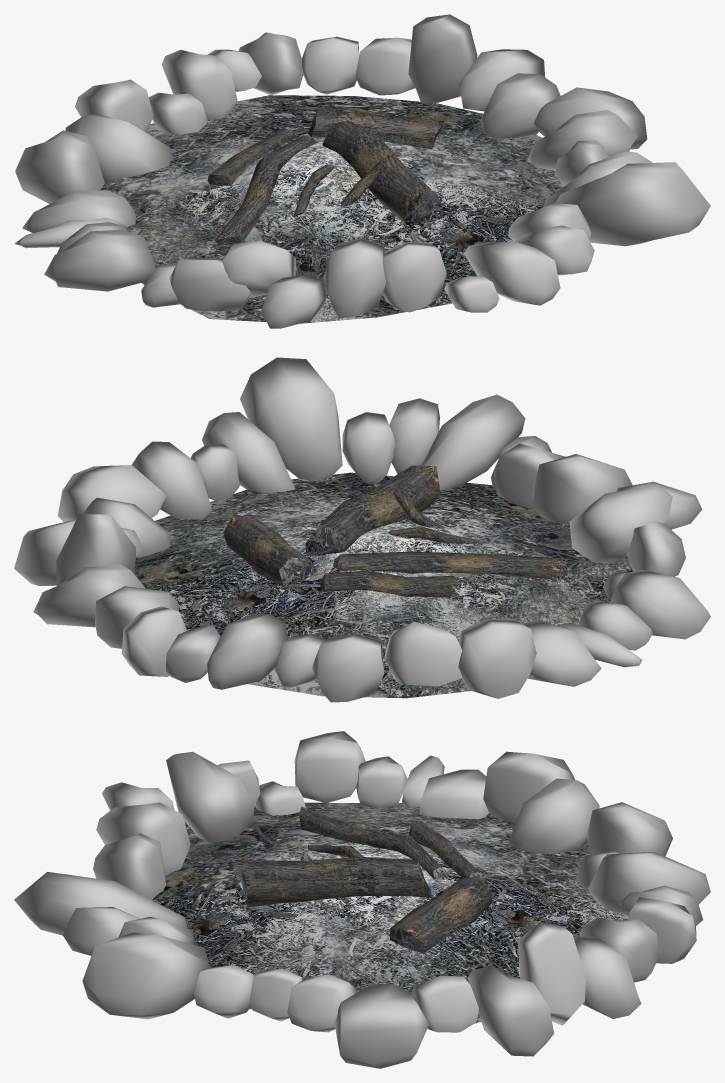
Rendered from Campfire.fbx.
3 renders of one model, top to bottom at view 1: azimuth 30°, elevation 25°; view 2: azimuth 150°, elevation 25°; view 3: azimuth 270°, elevation 25°, orthographic. The views are drawn at different scales.
Visible parts, largest first — view 1: polySurface2; view 2: polySurface2; view 3: polySurface2.
Boxes of the visible parts, x1,y1,x2,y2 form: polySurface2: (14,14,710,328); polySurface2: (14,357,710,702); polySurface2: (14,731,710,1068).
Bounding box in the file's own units: 197 × 28.84 × 189.
